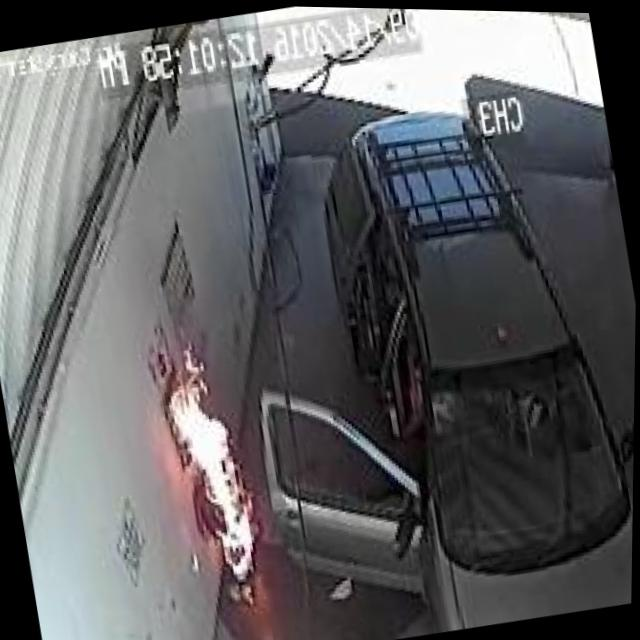fire: (151, 329, 277, 615)
